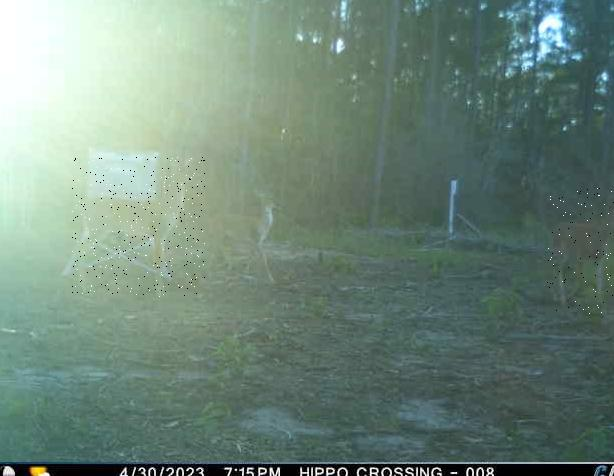Deer: (72, 157, 205, 297), (547, 188, 614, 314)
